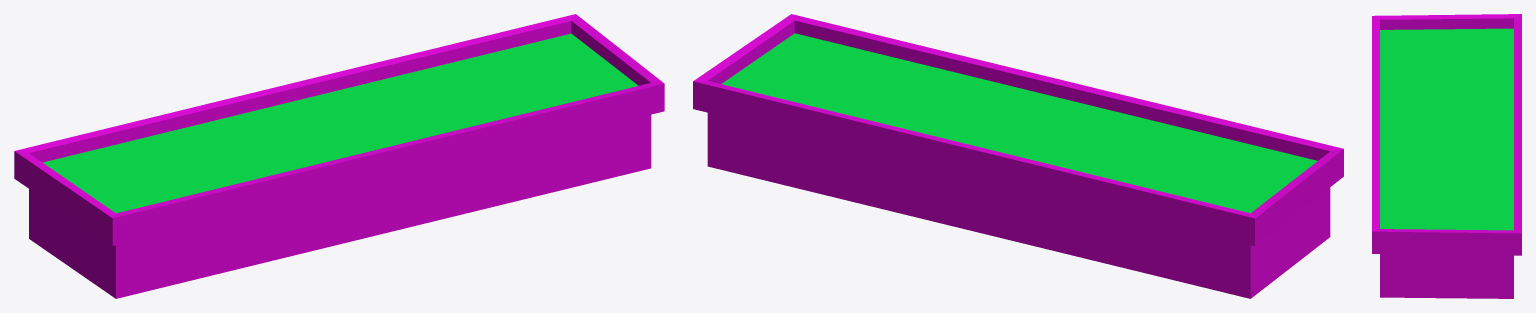
Rendered from flat_planter.fbx.
The picture shows the model from 3 angles, left to right: view 1: azimuth 30°, elevation 25°; view 2: azimuth 150°, elevation 25°; view 3: azimuth 270°, elevation 25°; orthographic projection. The views are drawn at different scales.
Visible parts, largest first — view 1: flat_planter; view 2: flat_planter; view 3: flat_planter.
Part boxes in pixels (box(x1,y1,x2,y2)): flat_planter: box(14, 14, 664, 298); flat_planter: box(693, 14, 1343, 298); flat_planter: box(1372, 14, 1521, 298).
Bounding box in the file's own units: 389 × 57.13 × 112.
